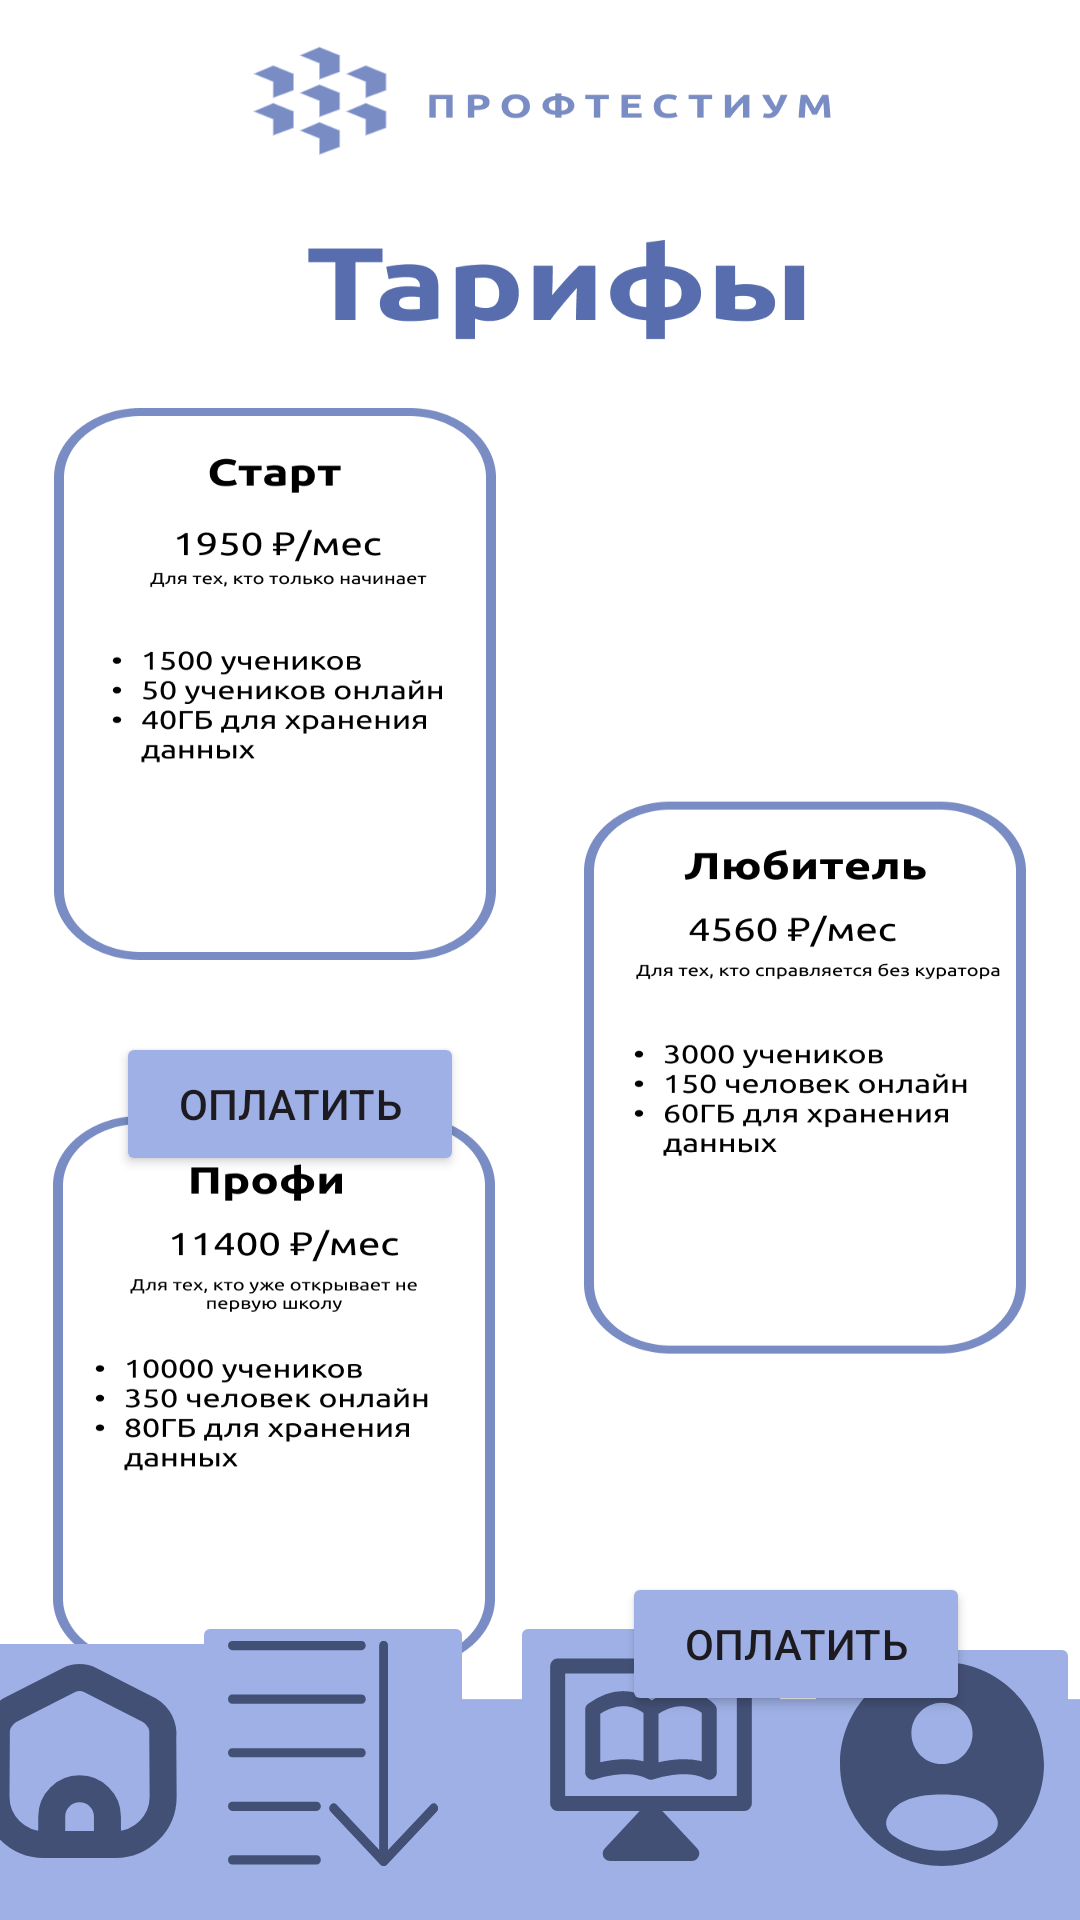

Icon bounding boxes for this 1080 × 1920 phone screenshot, format (x1, y1, x2, y2):
course: (510, 1611, 792, 1861)
user: (804, 1632, 1080, 1866)
